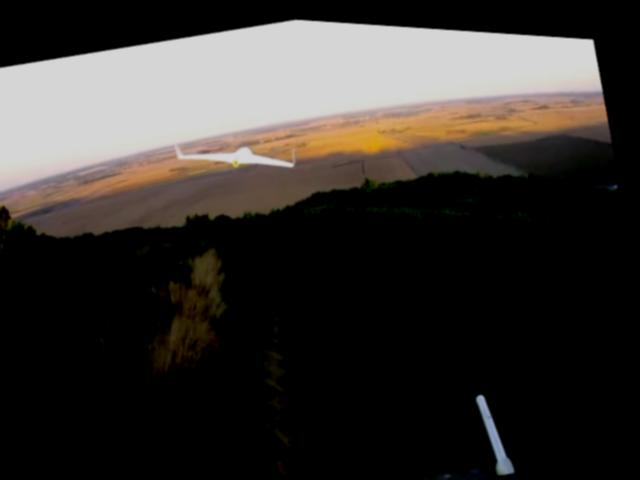plane: (171, 113, 301, 189)
